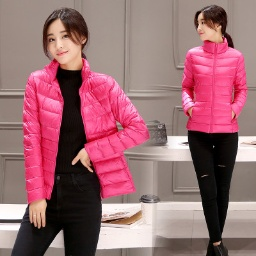face: (36, 5, 96, 63), (187, 4, 235, 55)
